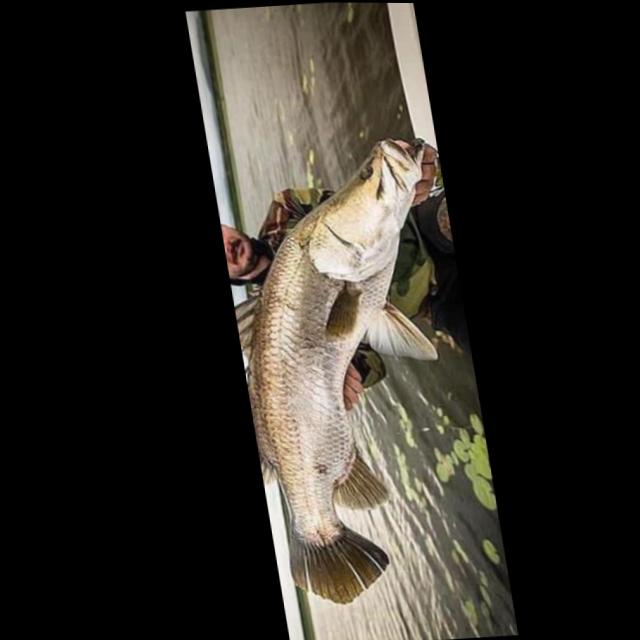Seabass: (205, 129, 501, 610)
